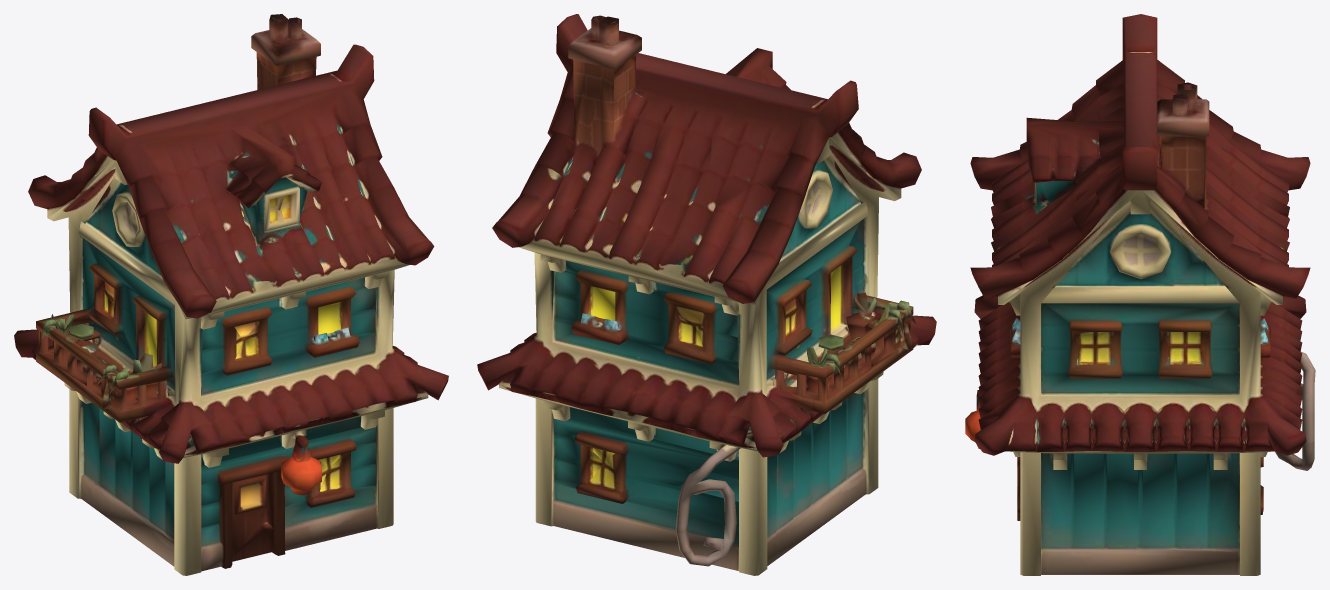
The model's file is bld_teal.glb.
3 renders of one model, left to right at view 1: azimuth 30°, elevation 25°; view 2: azimuth 150°, elevation 25°; view 3: azimuth 270°, elevation 25°, orthographic. The views are drawn at different scales.
Parts seen in each view (by area): view 1: tripo_node_c6e84b1d-3890-4029-aefe-628be8288016; view 2: tripo_node_c6e84b1d-3890-4029-aefe-628be8288016; view 3: tripo_node_c6e84b1d-3890-4029-aefe-628be8288016.
Boxes of the visible parts, x1,y1,x2,y2 form: tripo_node_c6e84b1d-3890-4029-aefe-628be8288016: (14, 14, 448, 575); tripo_node_c6e84b1d-3890-4029-aefe-628be8288016: (477, 14, 936, 575); tripo_node_c6e84b1d-3890-4029-aefe-628be8288016: (965, 14, 1315, 575).
Size of the model in its own units: 0.6845 by 0.9799 by 0.6577.
1 material, 1 textured.
